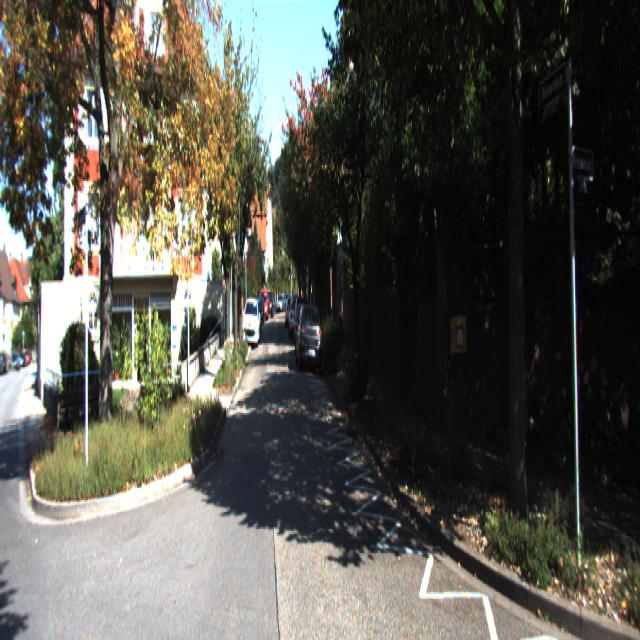Car: (294, 300, 322, 378), (241, 296, 260, 349)
